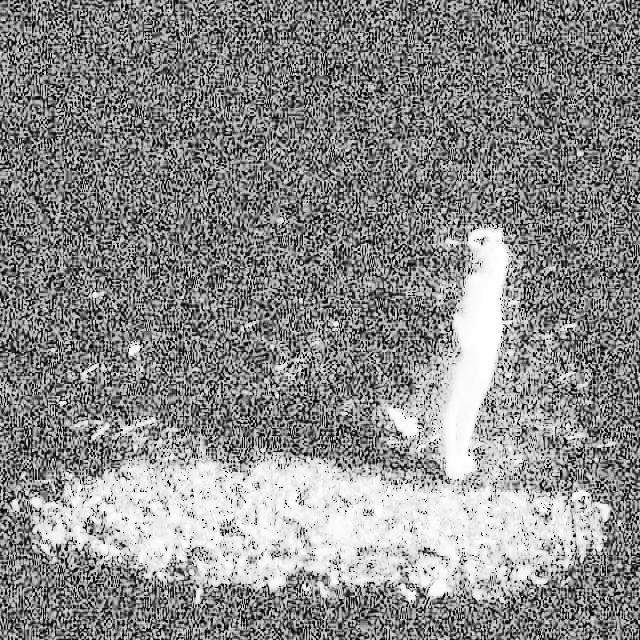Cat: (401, 215, 519, 489)
